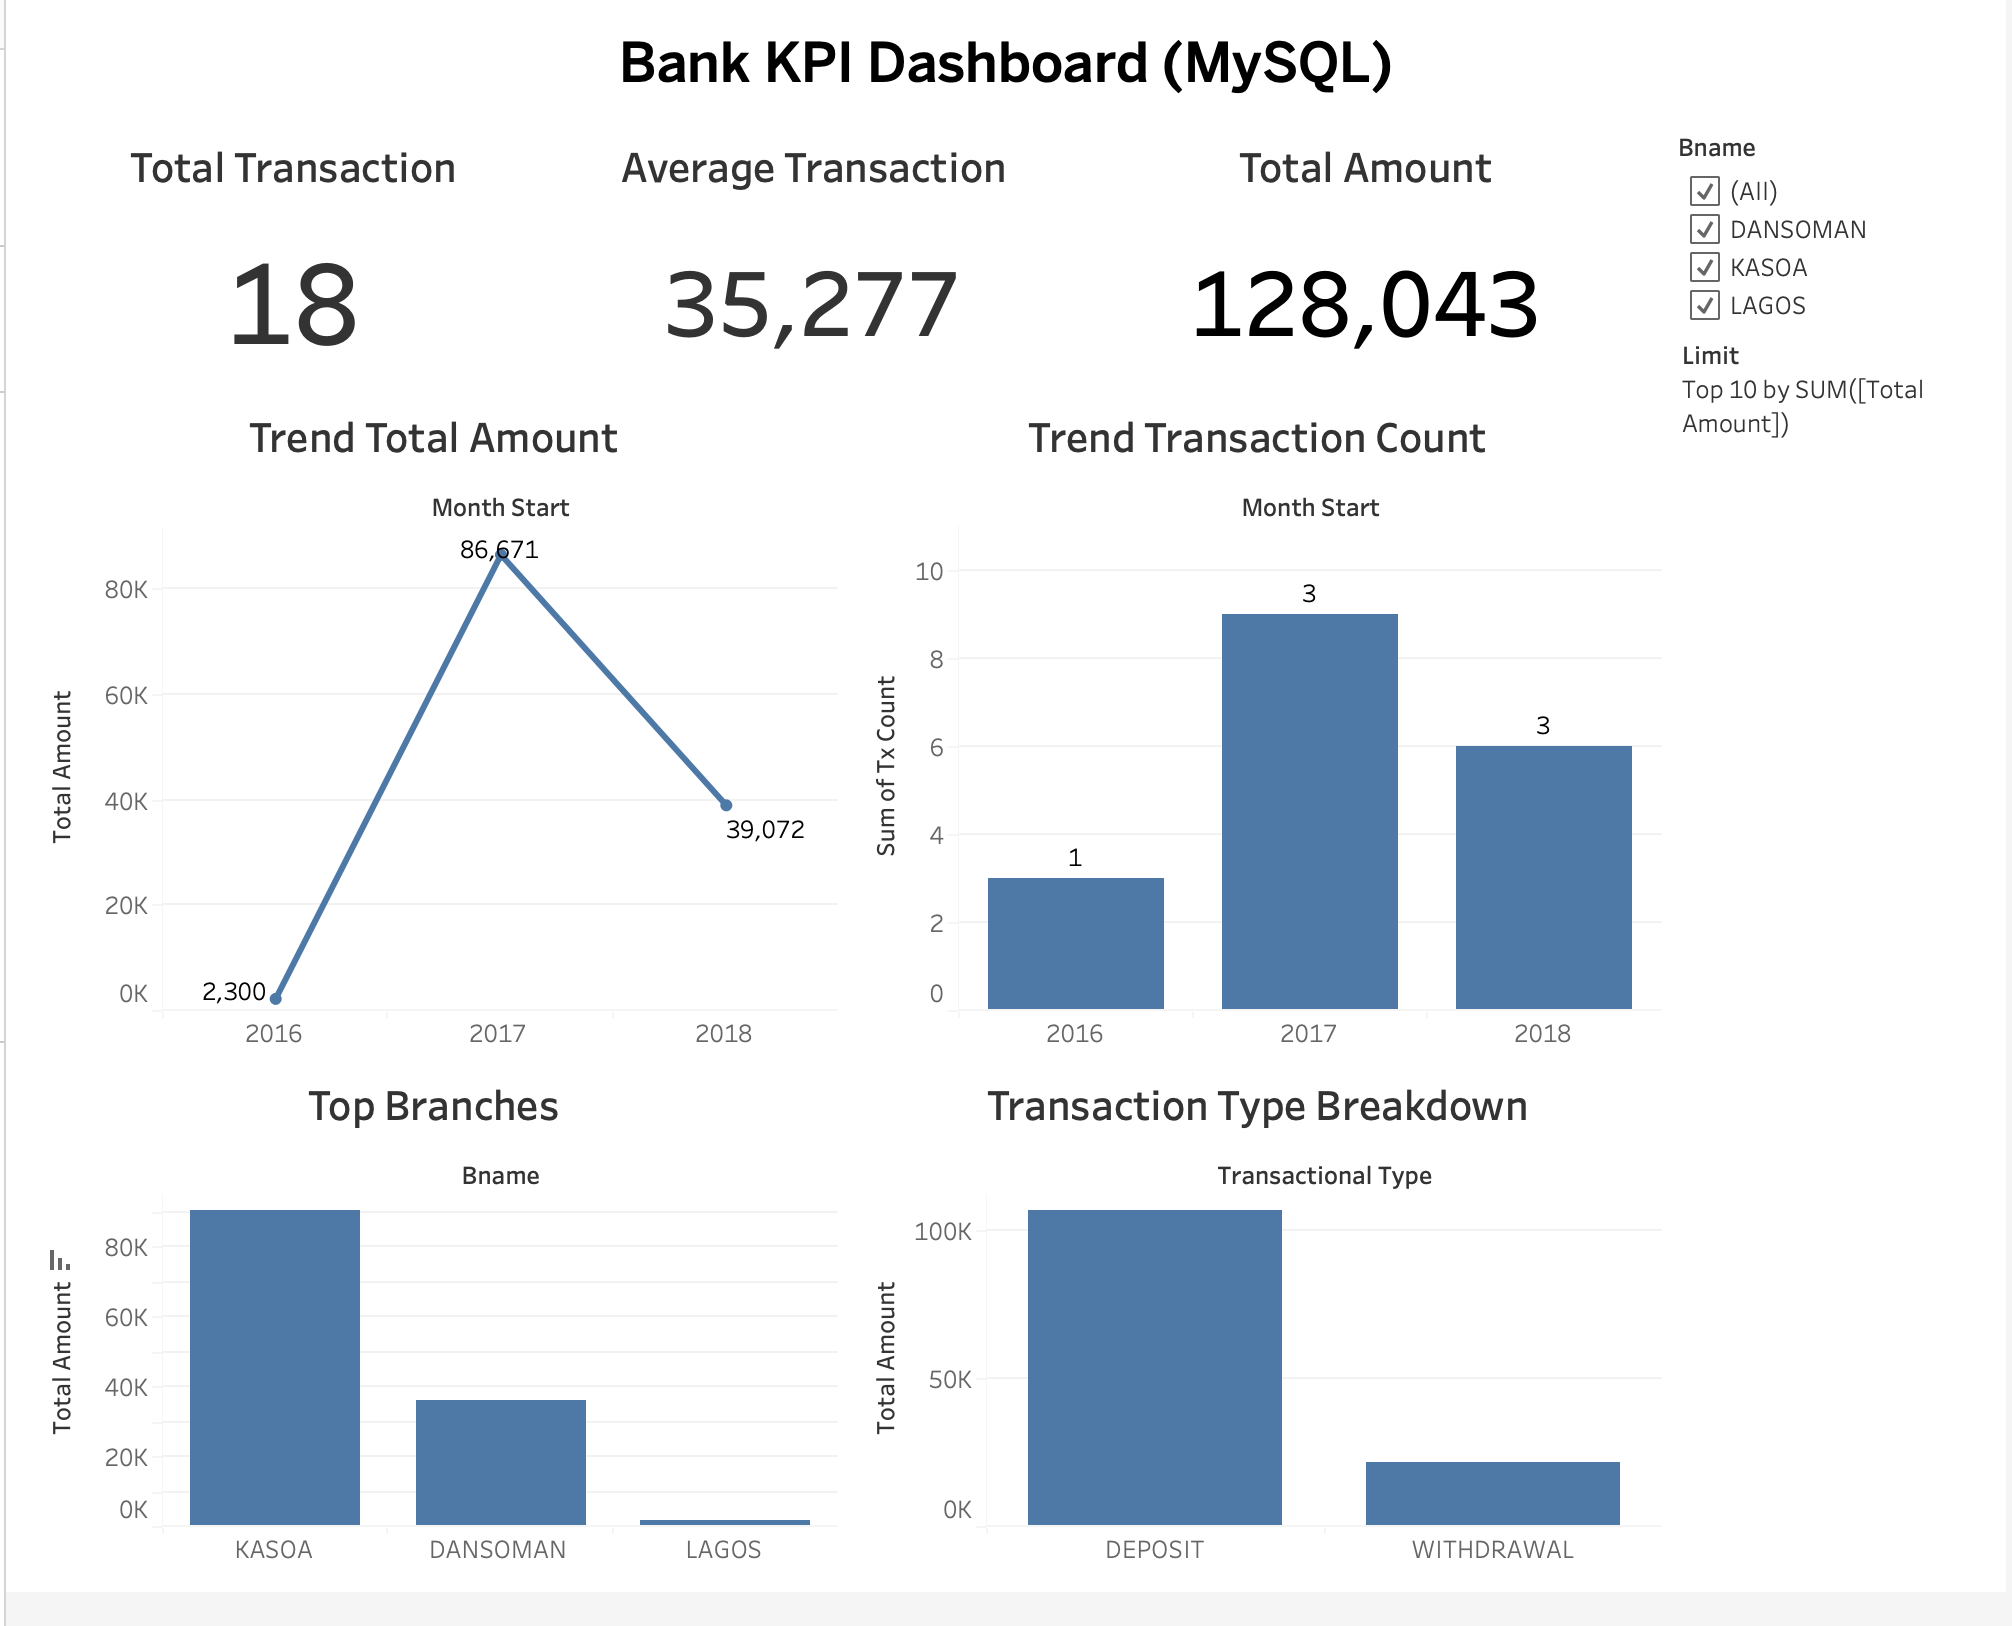

This screenshot's page, from the dashboard's own definition file:
{"tool":"tableau","page":{"name":"Dashboard 1","canvas":[1000,800],"ordinal":0},"visuals":[{"type":"text","box":[8,8,984,57]},{"type":"worksheet","title":"Total_Transactions","mark":"Text","box":[8,65,272.1,135]},{"type":"worksheet","title":"KPI_Avg_Tx","mark":"Automatic","box":[280.2,65,247.9,135]},{"type":"worksheet","title":"KPI_Total_Amount","mark":"Text","box":[528,65,304,135]},{"type":"filter","title":"Top_Branches","param":"[federated.0ttq47q00m7ocf18hsm4g1gasjsh].[none:bname:nk]","box":[832,65,160,167]},{"type":"worksheet","title":"Trend_Total_Amount","mark":"Line","rows":["total_amount"],"cols":["month_start"],"box":[8,200,412,334]},{"type":"worksheet","title":"Trend_Tx_Count","mark":"Bar","rows":["tx_count"],"cols":["month_start"],"box":[420,200,412,334]},{"type":"worksheet","title":"Top_Branches","mark":"Bar","rows":["total_amount"],"cols":["bname"],"box":[8,533.8,412,258.2]},{"type":"worksheet","title":"Type_Breakdown","mark":"Bar","rows":["total_amount"],"cols":["trantype"],"box":[420,533.8,412,258.2]}]}

Visuals, with their boxes in screenshot pixels (x1, y1, x2, y2), scaled from the page's 1000x800 canvas onto the 2012x1626 screenshot:
text: bbox=(16, 16, 1996, 132)
"Total_Transactions" worksheet (Text marks): bbox=(16, 132, 564, 407)
"KPI_Avg_Tx" worksheet: bbox=(564, 132, 1063, 407)
"KPI_Total_Amount" worksheet (Text marks): bbox=(1062, 132, 1674, 407)
"Top_Branches" filter: bbox=(1674, 132, 1996, 472)
"Trend_Total_Amount" worksheet (Line marks): bbox=(16, 407, 845, 1085)
"Trend_Tx_Count" worksheet (Bar marks): bbox=(845, 407, 1674, 1085)
"Top_Branches" worksheet (Bar marks): bbox=(16, 1085, 845, 1610)
"Type_Breakdown" worksheet (Bar marks): bbox=(845, 1085, 1674, 1610)
